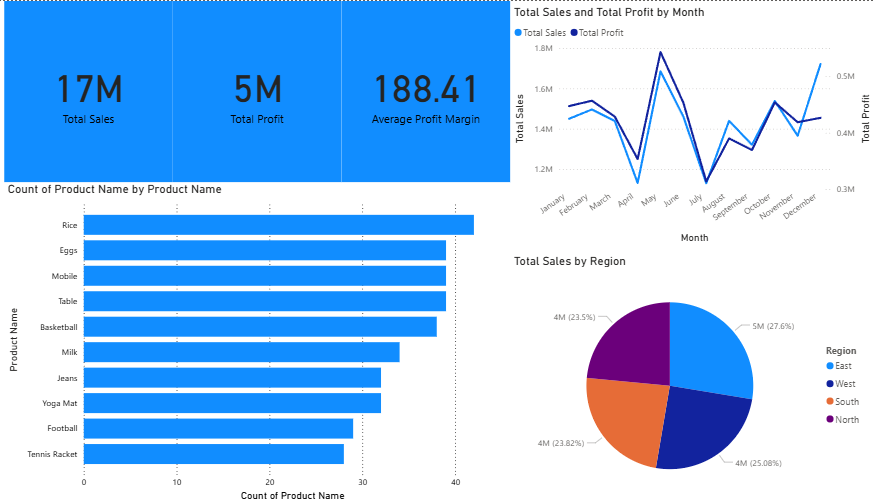

This screenshot's page, from the dashboard's own definition file:
{"tool":"powerbi","page":{"name":"Page 1","canvas":[1280,720],"ordinal":0},"visuals":[{"type":"card","fields":{"Values":["WellsFargo_SalesData.Average Profit Margin"]},"box":[519.7,0,241,259],"z":0},{"type":"card","fields":{"Values":["WellsFargo_SalesData.Total Profit"]},"box":[278.7,0,241,259],"z":1000},{"type":"card","fields":{"Values":["WellsFargo_SalesData.Total Sales"]},"box":[37.7,0,241,259],"z":2000},{"type":"lineChart","fields":{"Category":["WellsFargo_SalesData_1000rows.Order Date.Variation.Date Hierarchy.Month"],"Y":["Sum(WellsFargo_SalesData_1000rows.Sales Amount)","WellsFargo_SalesData.Total Sales"]},"box":[760.1,0,520,350.8],"z":3000},{"type":"pieChart","fields":{"Category":["WellsFargo_SalesData.Region"],"Y":["WellsFargo_SalesData.Total Sales"]},"box":[760.7,360.7,519.7,359],"z":4000},{"type":"actionButton","box":[0,0,100,40],"z":5000},{"type":"clusteredBarChart","fields":{"Category":["WellsFargo_SalesData. Product Name"],"Y":["CountNonNull(WellsFargo_SalesData. Product Name)"]},"box":[37.7,259,723,460.7],"z":6000}]}

Visuals, with their boxes in screenshot pixels (x1, y1, x2, y2), scaled from the page's 1280x720 canvas onto the 874x503 screenshot:
card - WellsFargo_SalesData.Average Profit Margin: left=355, top=0, right=519, bottom=181
card - WellsFargo_SalesData.Total Profit: left=190, top=0, right=355, bottom=181
card - WellsFargo_SalesData.Total Sales: left=26, top=0, right=190, bottom=181
lineChart - WellsFargo_SalesData_1000rows.Order Date.Variation.Date Hierarchy.Month x Sum(WellsFargo_SalesData_1000rows.Sales Amount): left=519, top=0, right=873, bottom=245
pieChart - WellsFargo_SalesData.Region x WellsFargo_SalesData.Total Sales: left=519, top=252, right=873, bottom=502
actionButton: left=0, top=0, right=68, bottom=28
clusteredBarChart - WellsFargo_SalesData. Product Name x CountNonNull(WellsFargo_SalesData. Product Name): left=26, top=181, right=519, bottom=502
